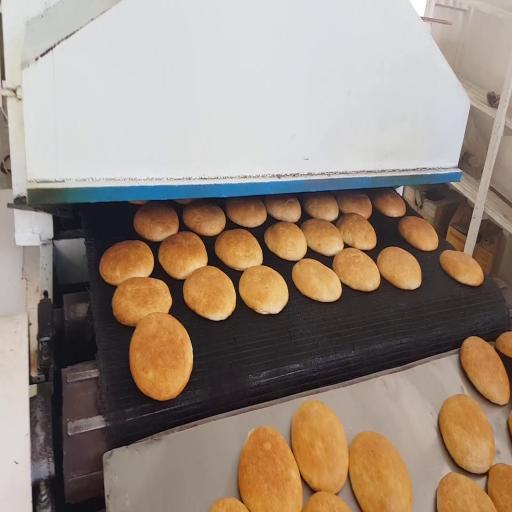bread: (130, 313, 192, 400), (291, 400, 348, 493), (239, 427, 302, 511), (349, 432, 413, 511), (439, 394, 495, 474), (460, 337, 510, 404), (112, 277, 172, 326), (183, 266, 235, 320), (100, 240, 154, 285), (239, 266, 288, 314), (159, 232, 207, 279), (437, 473, 496, 511), (292, 259, 341, 302), (333, 248, 380, 291), (215, 229, 262, 270), (377, 247, 421, 289), (134, 202, 178, 241), (264, 222, 307, 261), (301, 219, 343, 256), (440, 250, 483, 286), (336, 213, 376, 250), (183, 202, 225, 236), (399, 216, 438, 251), (225, 197, 267, 228), (487, 463, 512, 512), (264, 195, 301, 222), (337, 191, 372, 219), (303, 193, 338, 221), (372, 189, 406, 217), (303, 492, 350, 511), (210, 498, 248, 511), (496, 331, 511, 357), (174, 199, 192, 205), (508, 412, 511, 435), (129, 201, 146, 205)
